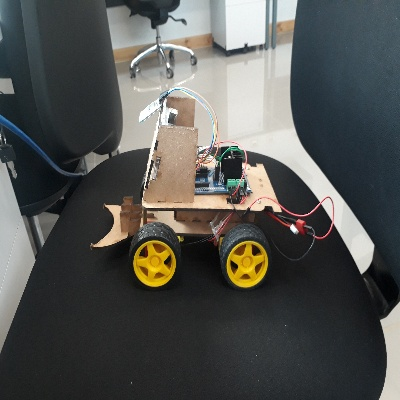Robot: (90, 87, 283, 292)
